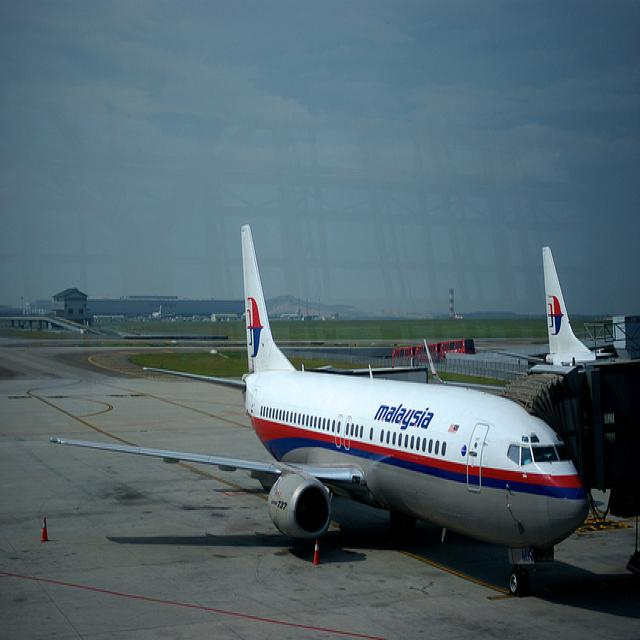airplane: (50, 218, 589, 600)
